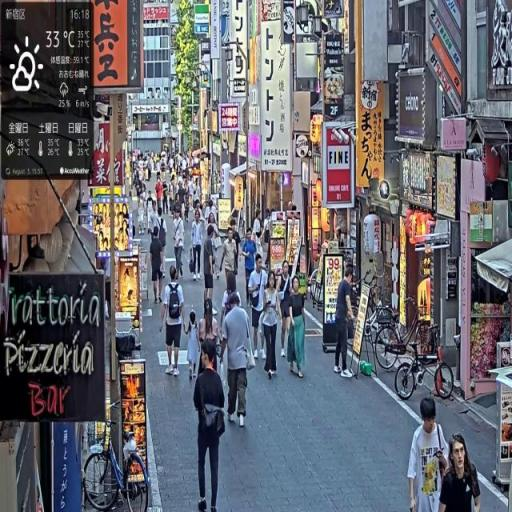person: (195, 338, 227, 511), (409, 394, 452, 512), (221, 291, 254, 429), (439, 434, 482, 512), (160, 263, 188, 378), (335, 267, 360, 378), (261, 273, 284, 381), (285, 274, 308, 381), (248, 253, 269, 365), (278, 263, 294, 357), (203, 225, 217, 318), (243, 228, 258, 311), (150, 229, 165, 307), (191, 211, 205, 282), (173, 207, 187, 277)
